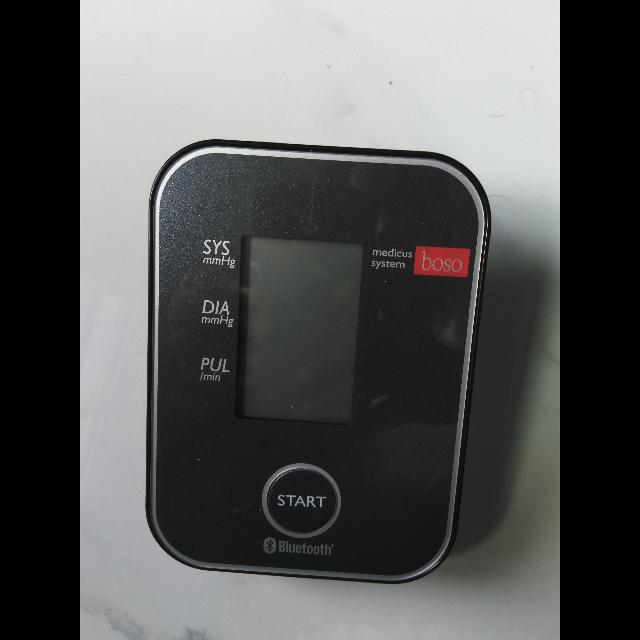Blood-Pressure-Monitor: (142, 135, 484, 591)
